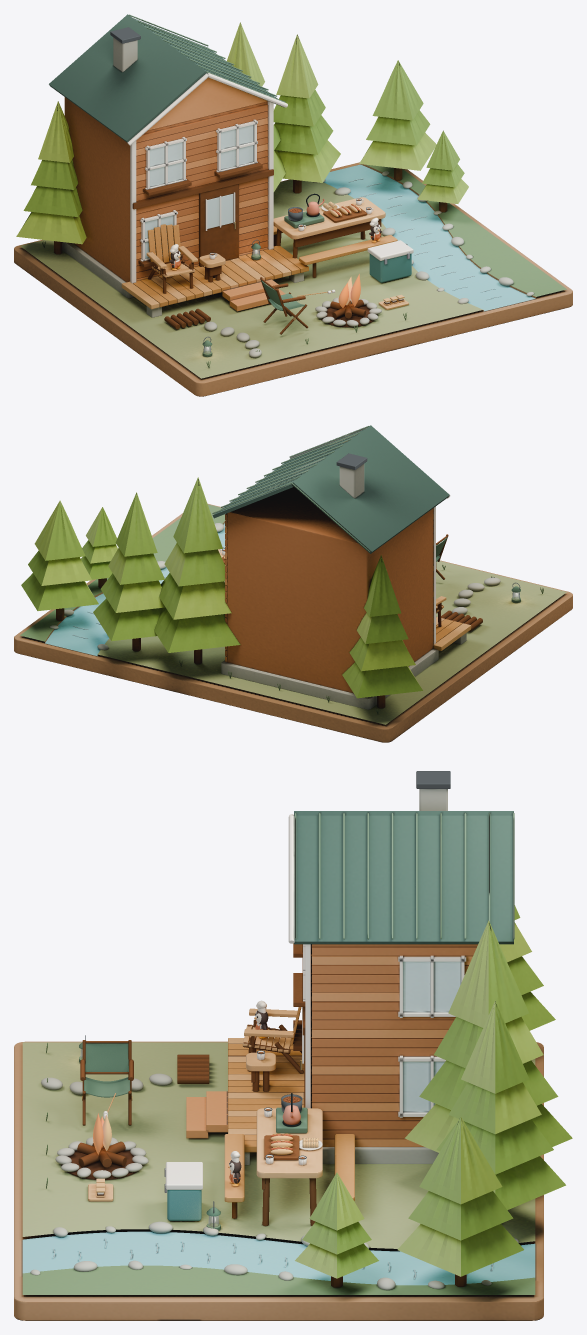
The model's file is riverside-campsite-baked.glb.
3 renders of one model, top to bottom at view 1: azimuth 30°, elevation 25°; view 2: azimuth 150°, elevation 25°; view 3: azimuth 270°, elevation 25°, orthographic. The views are drawn at different scales.
Parts seen in each view (by area): view 1: Baked riverside-campsite architecture, Baked riverside-campsite details, Live glass and reflective metal; view 2: Baked riverside-campsite architecture, Baked riverside-campsite details, Live glass and reflective metal; view 3: Baked riverside-campsite architecture, Baked riverside-campsite details, Live glass and reflective metal.
Boxes of the visible parts, box(x1,y1,x2,y2) form: Baked riverside-campsite architecture: box(14, 14, 572, 396); Baked riverside-campsite details: box(42, 130, 536, 367); Live glass and reflective metal: box(110, 27, 409, 353); Baked riverside-campsite architecture: box(14, 425, 572, 742); Baked riverside-campsite details: box(45, 507, 543, 714); Live glass and reflective metal: box(222, 453, 520, 599); Baked riverside-campsite architecture: box(14, 789, 572, 1320); Baked riverside-campsite details: box(22, 1000, 535, 1290); Live glass and reflective metal: box(80, 771, 450, 1227).
Size of the model in its own units: 9.38 by 5.17 by 7.81.
Materials: 7 (2 with a texture image).
